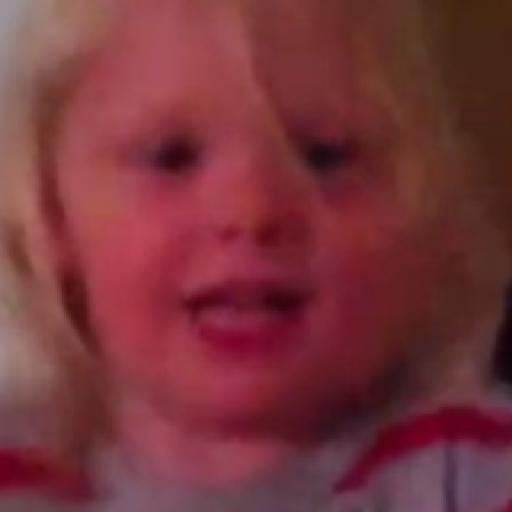Autism: (44, 36, 480, 430)
